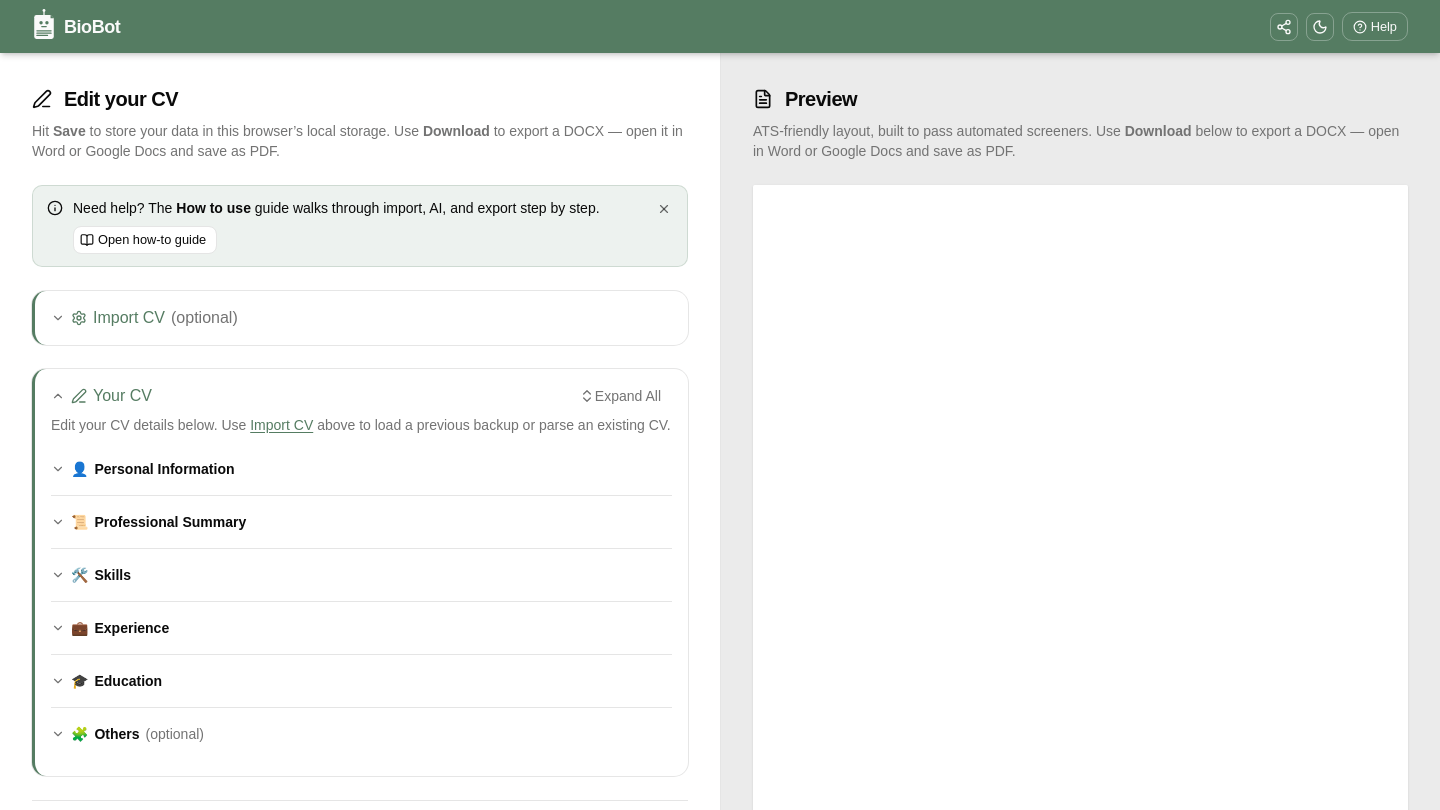
CvEditorPage card expansion › Expand All on Your CV card expands all inner sections
Click the button "Expand All" at (620, 396), box [568,385,672,407]
(page scrolled)
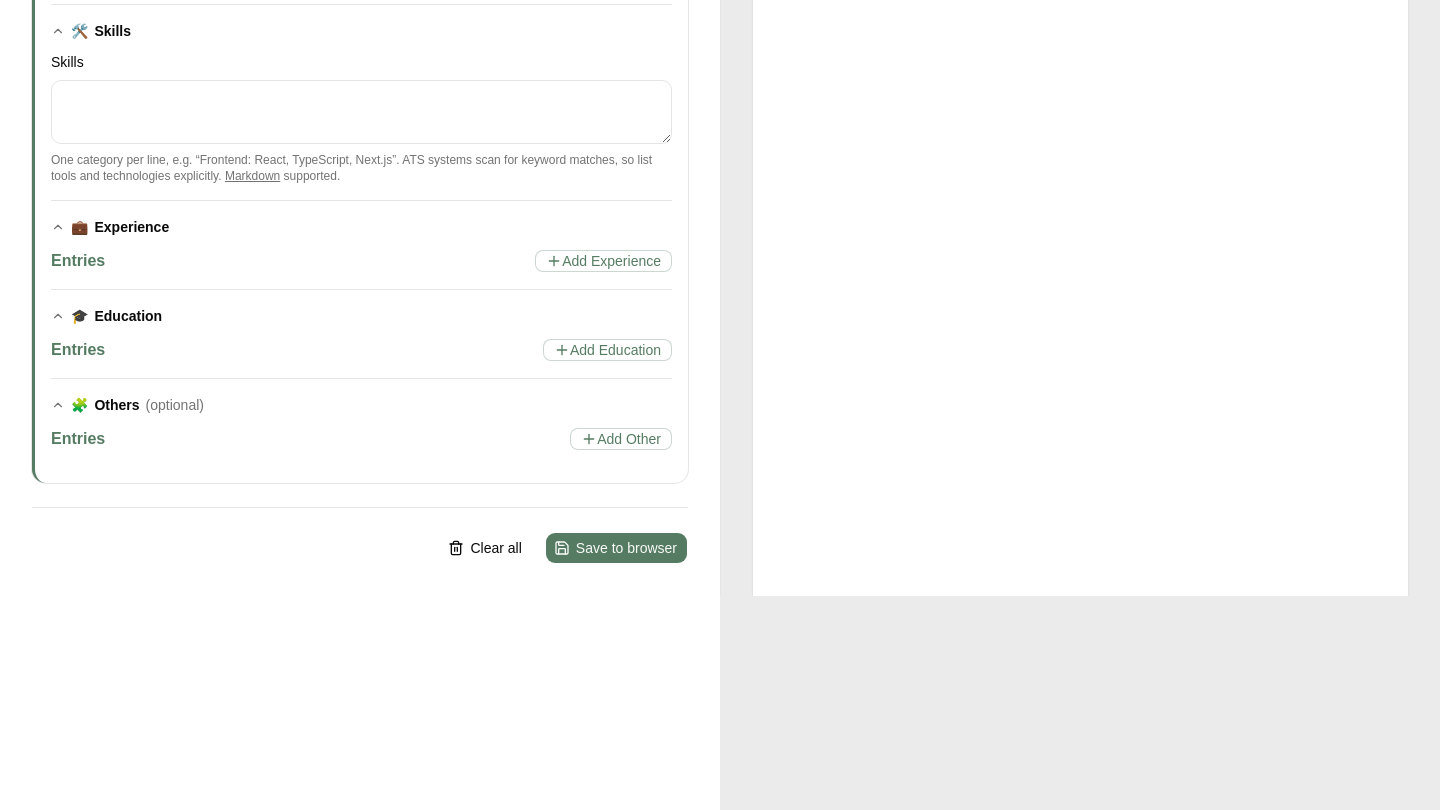
Check: the button with id "section-skills" is expanded, box [51,21,672,41]
Check: the button with id "section-experience" is expanded, box [51,217,672,237]
Check: the button with id "section-education" is expanded, box [51,306,672,326]
